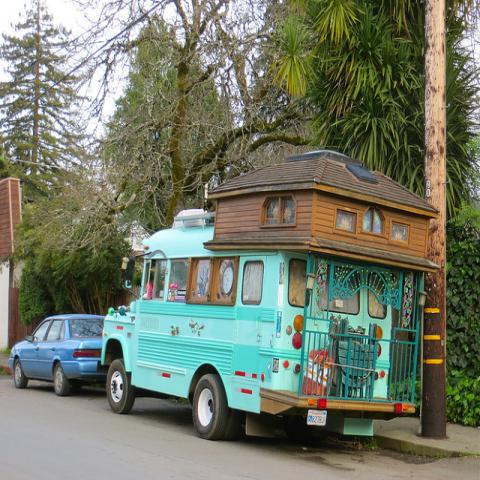bus: (95, 148, 444, 439)
car: (8, 313, 108, 396)
truck: (101, 149, 440, 441)
